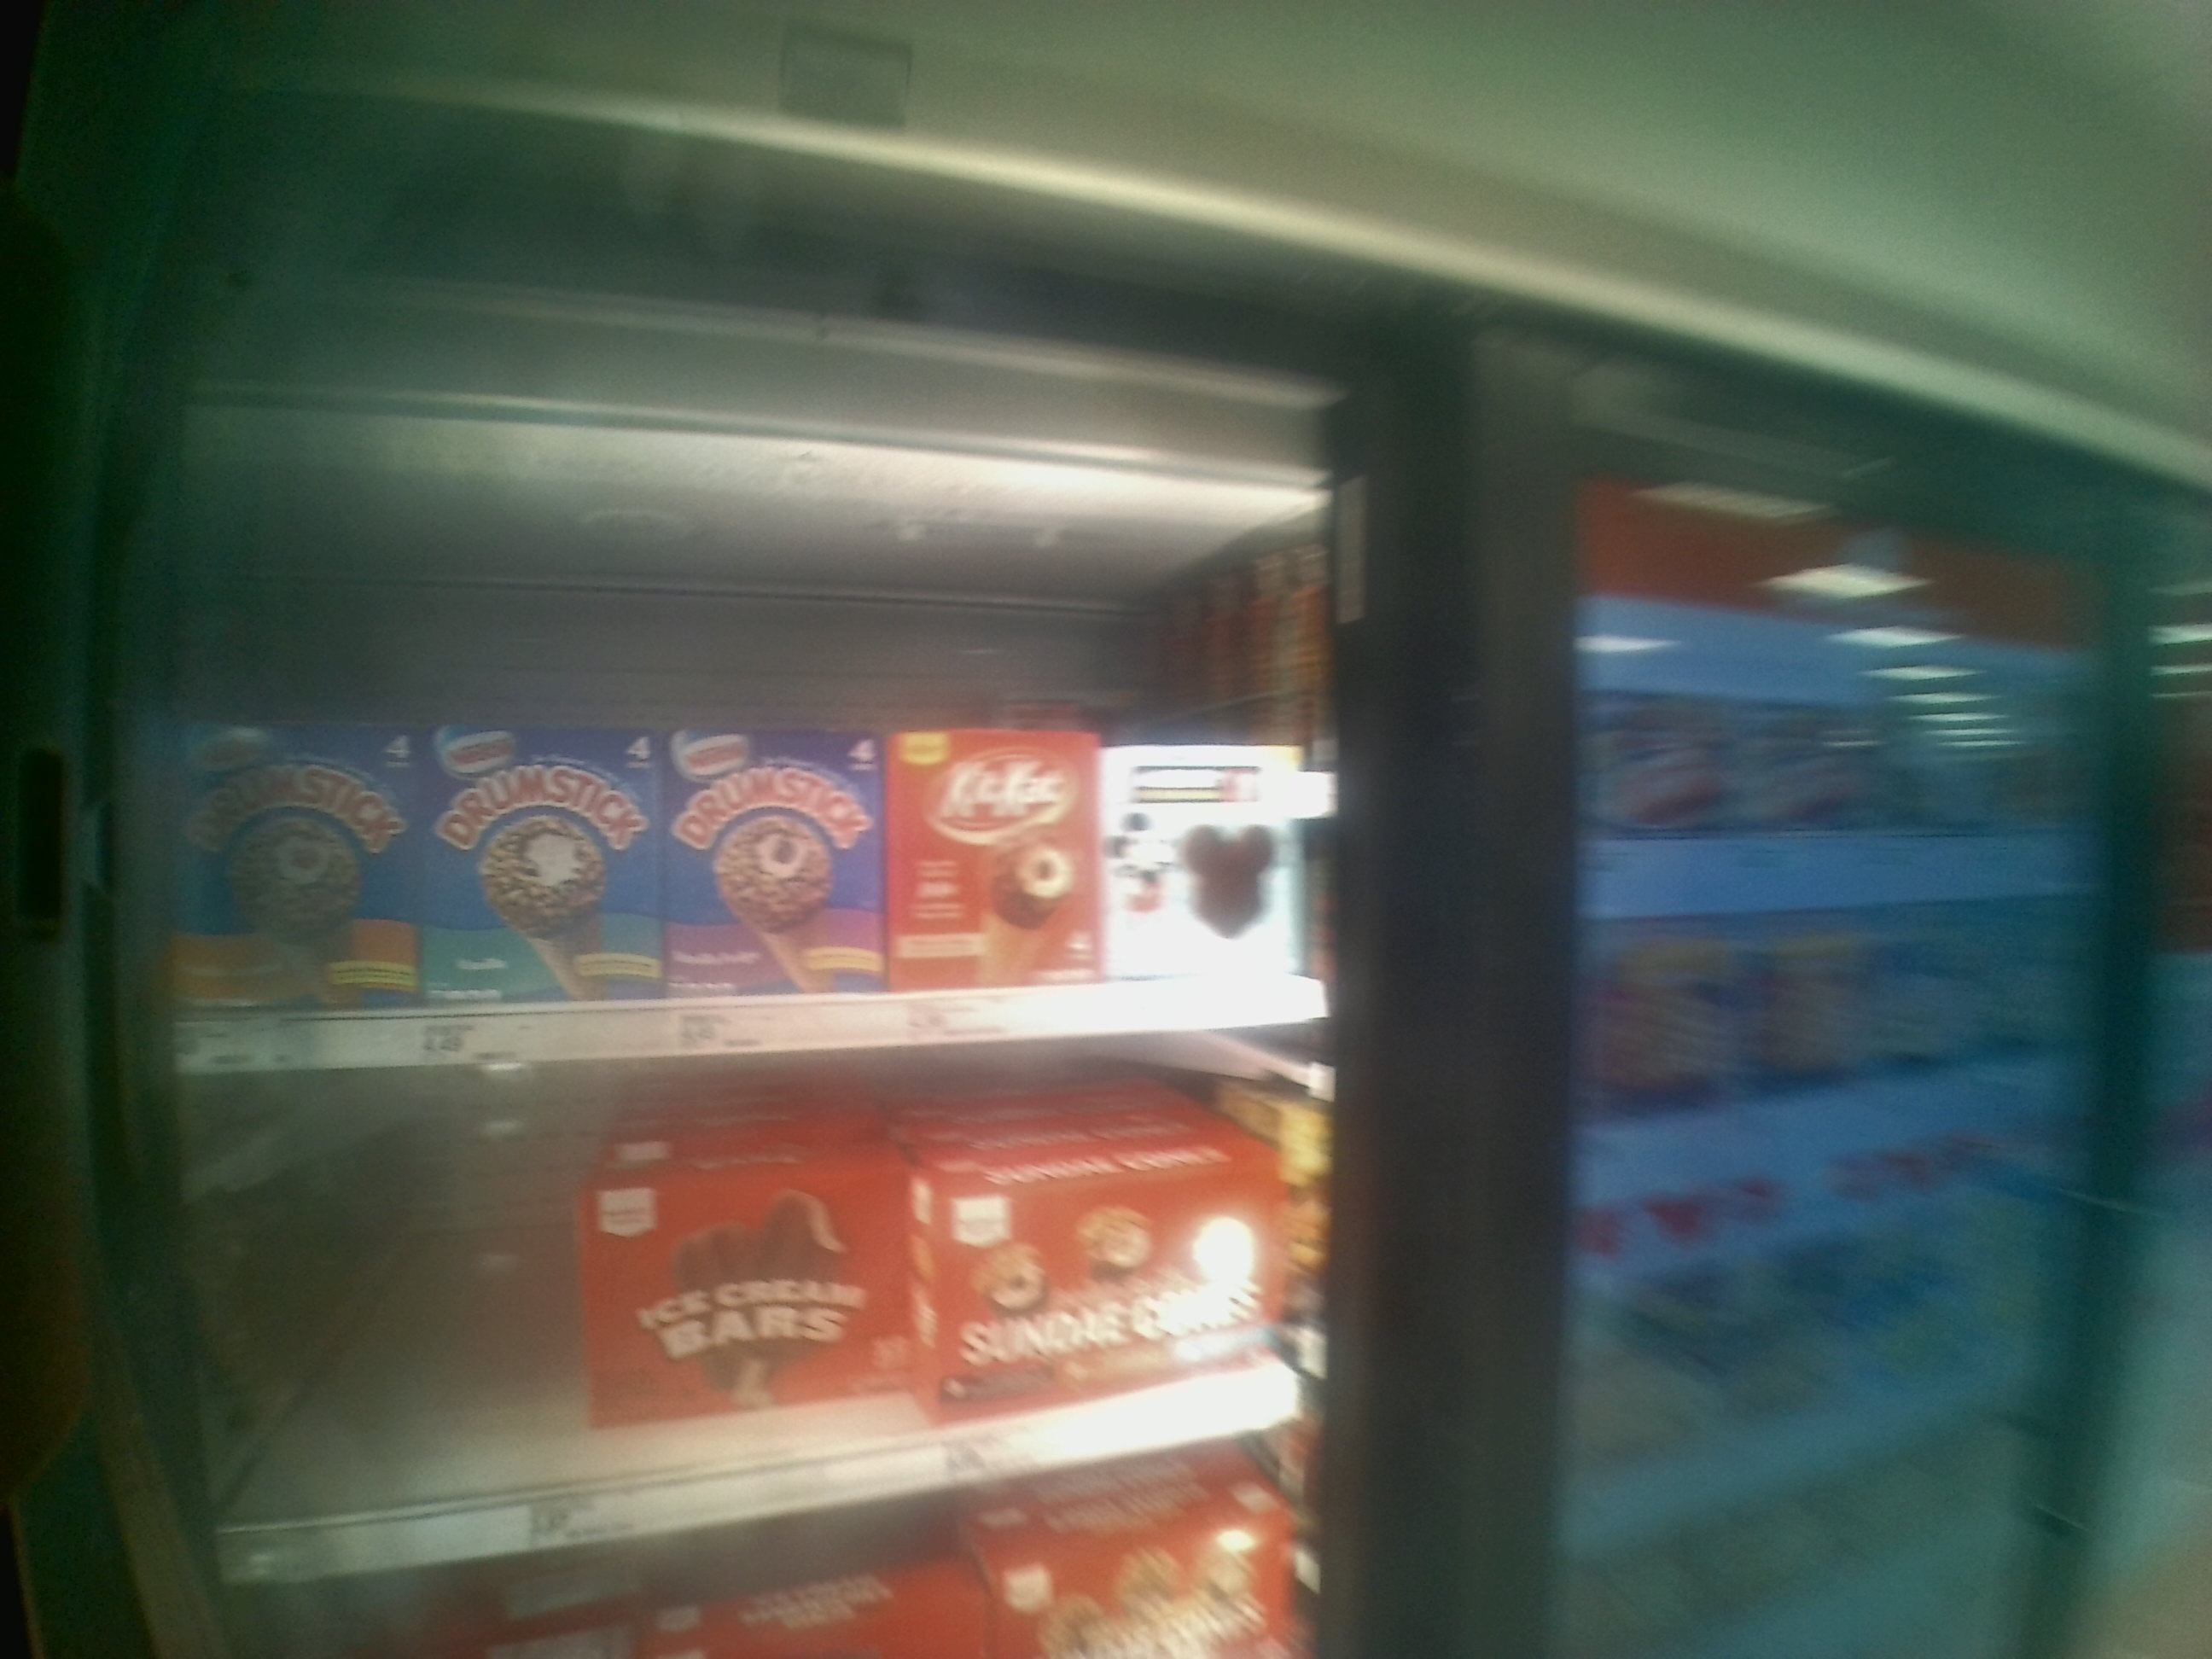shelf: (136, 397, 1338, 1047)
